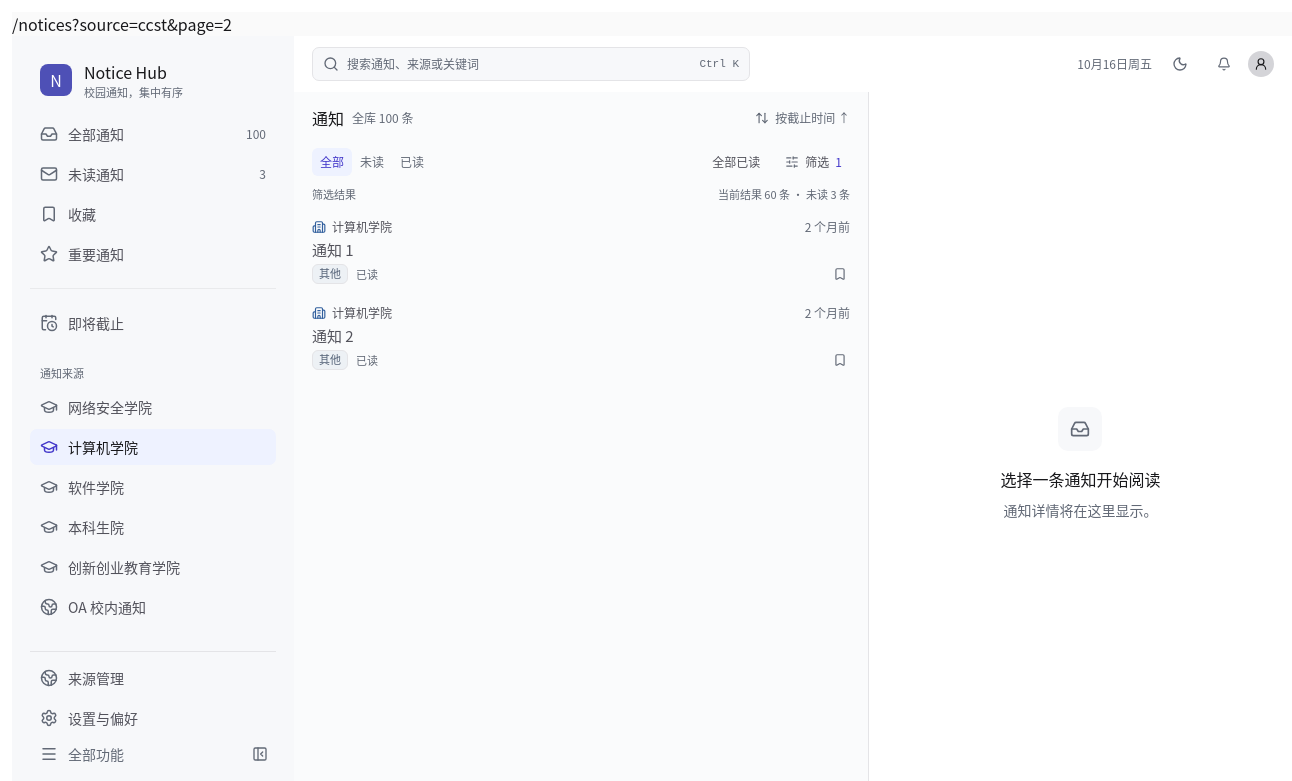
it: notice workspace selection › uses the route for ordinary list selection without duplicating the row
Click the link named "打开通知 1" at (581, 251), box [294, 208, 868, 294]
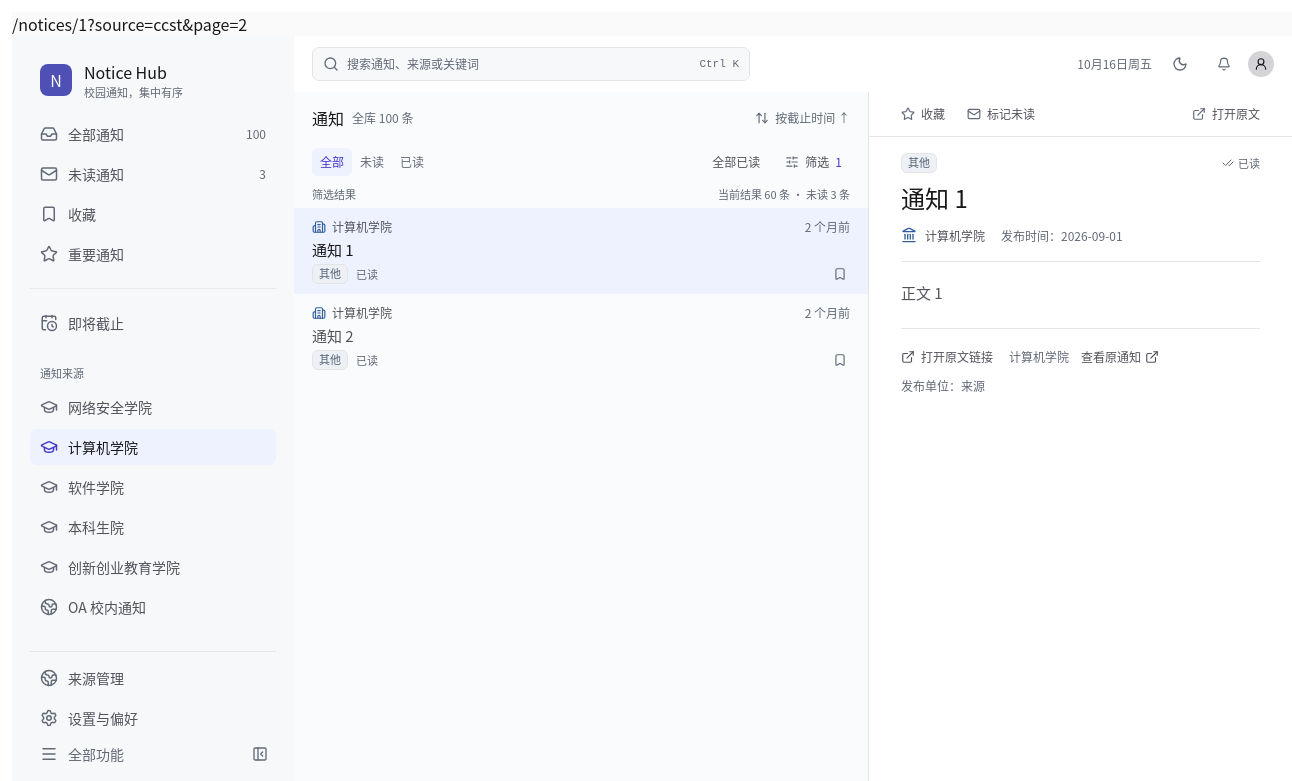
Check: the heading "通知 1" is shown, box [901, 180, 968, 215]
Check: the text with test id "location" reads "/notices/1?source=ccst&page=2", box [12, 12, 247, 36]
